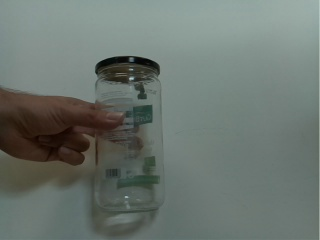pote cristal: (89, 54, 172, 215)
